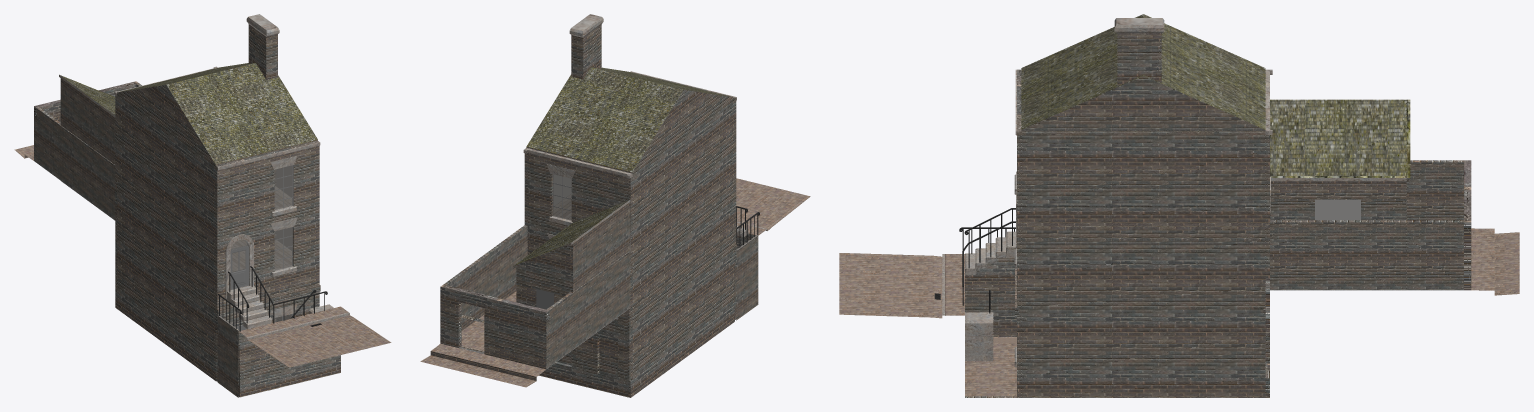
The model's file is TERRACEbrown.fbx.
3 renders of one model, left to right at view 1: azimuth 30°, elevation 25°; view 2: azimuth 150°, elevation 25°; view 3: azimuth 270°, elevation 25°, orthographic. The views are drawn at different scales.
Visible parts, largest first — view 1: arch.000; view 2: arch.000; view 3: arch.000.
Boxes of the visible parts, x1,y1,x2,y2 form: arch.000: [14, 14, 391, 397]; arch.000: [420, 14, 810, 397]; arch.000: [839, 14, 1519, 397].
Size of the model in its own units: 659 by 1853 by 3067.
Materials: 9 (5 with a texture image).
